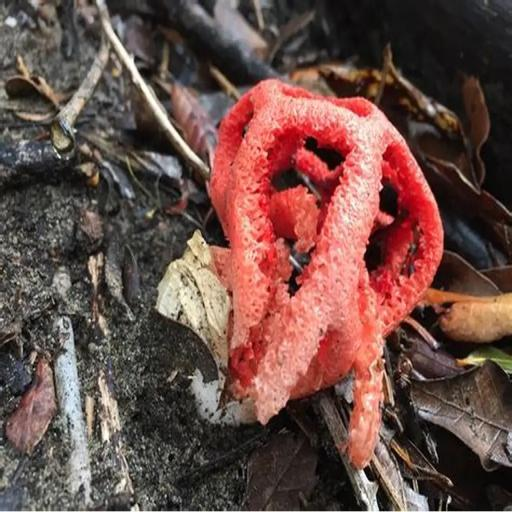mushroom: (122, 55, 487, 475)
